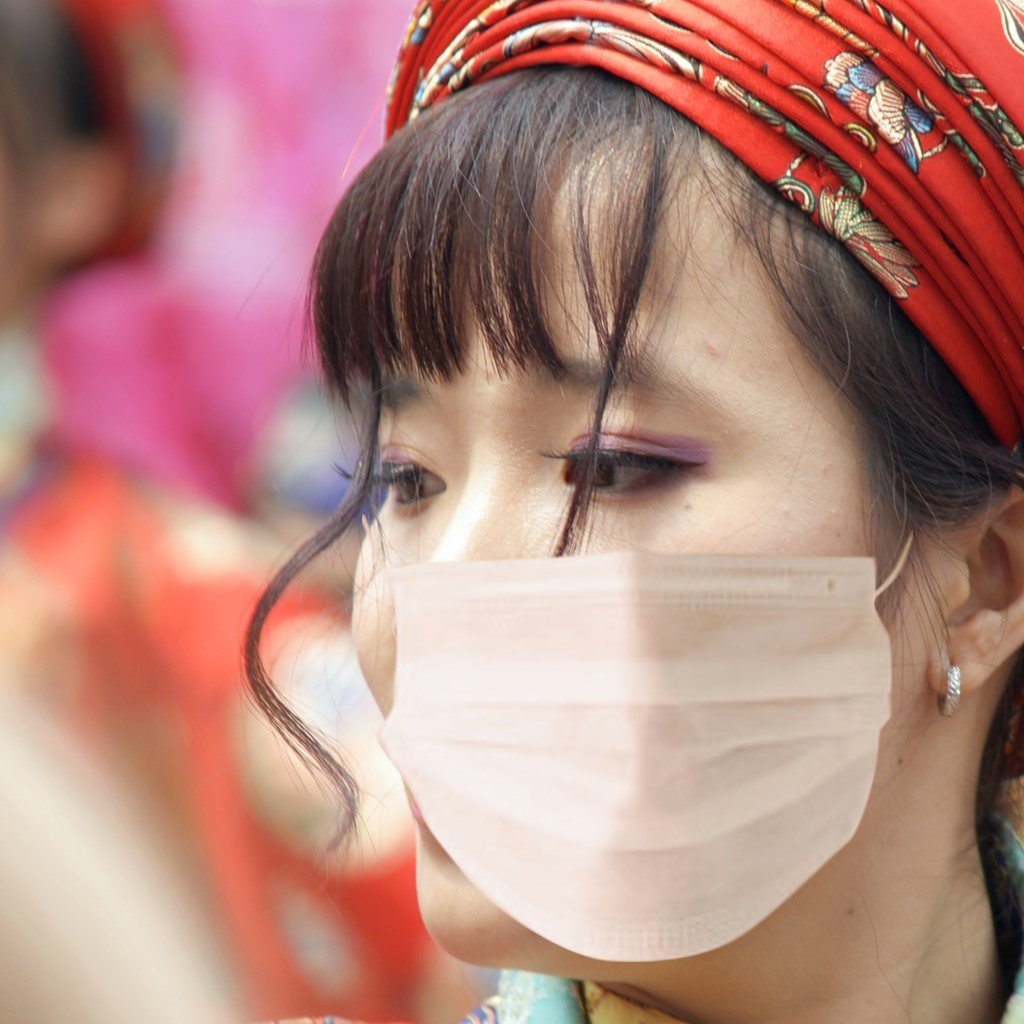con_mascara: (336, 181, 909, 989)
